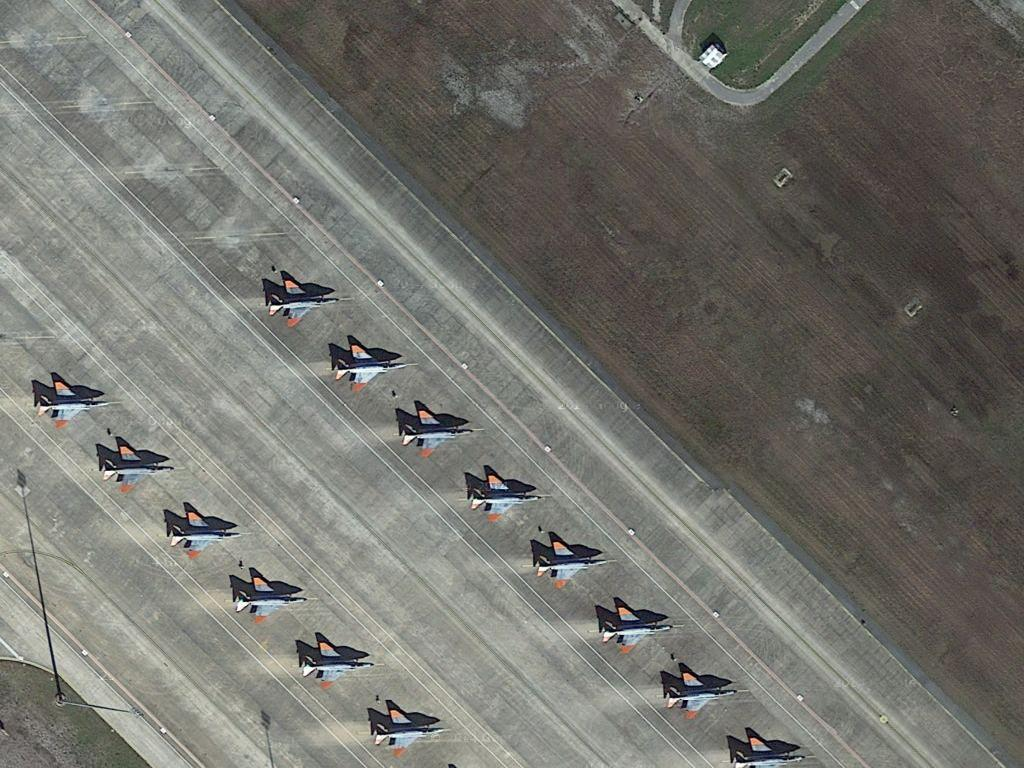plane: (386, 399, 493, 460), (256, 272, 356, 330), (325, 335, 424, 393), (160, 504, 258, 562), (652, 665, 753, 721), (225, 568, 323, 625), (359, 702, 454, 760), (458, 467, 556, 523), (524, 533, 622, 589), (588, 601, 686, 656), (29, 378, 129, 430), (93, 439, 181, 497), (294, 636, 385, 691), (723, 725, 810, 768)
